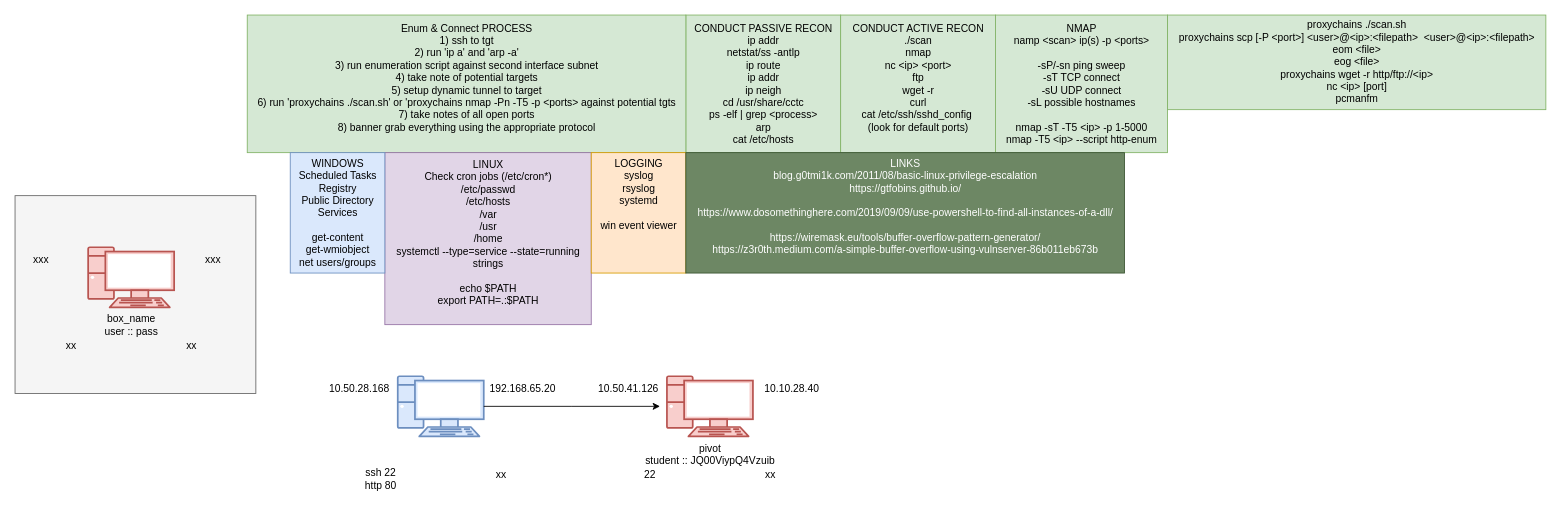
Image size: 1561x512. Some labels were removed from this diagram. Each missing label, with the box of its shape:
lin-ops student :: password: (396, 375, 484, 437)
Template: (14, 195, 256, 393)
